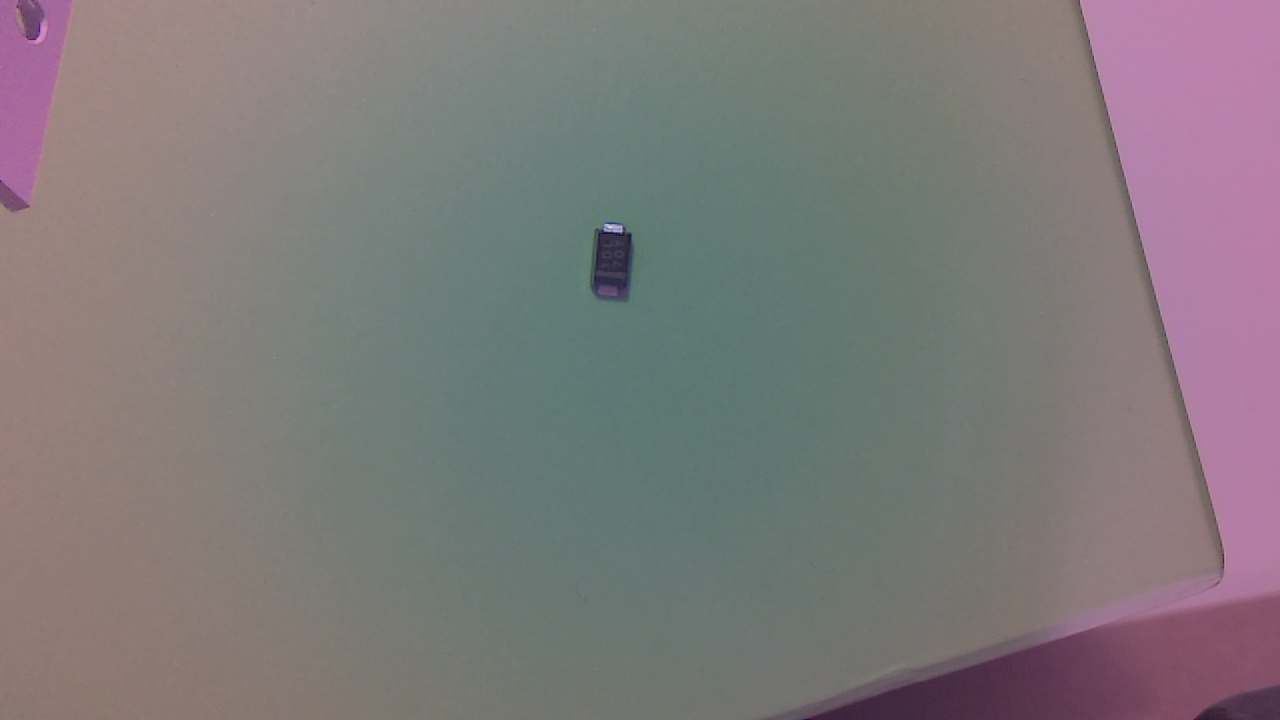Diode: (595, 224, 641, 306)
